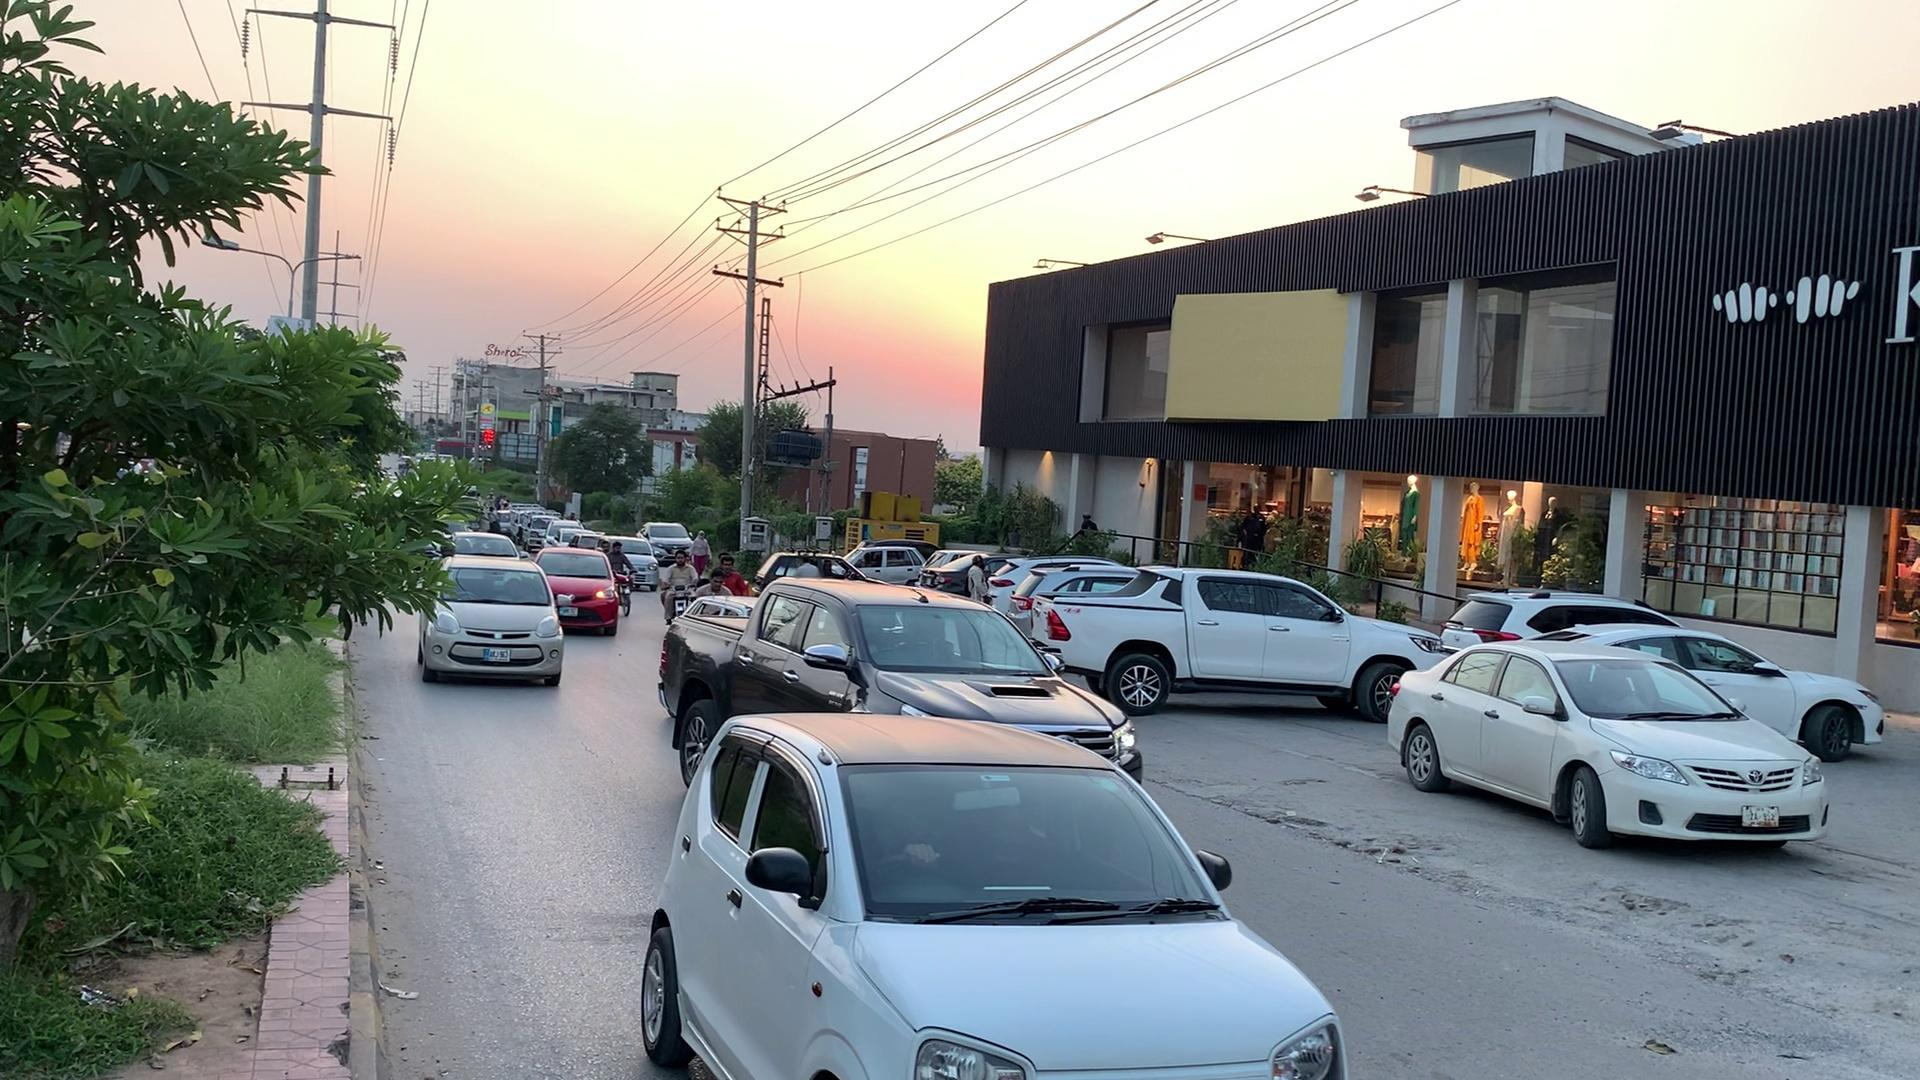windshield: (815, 750, 1244, 947)
